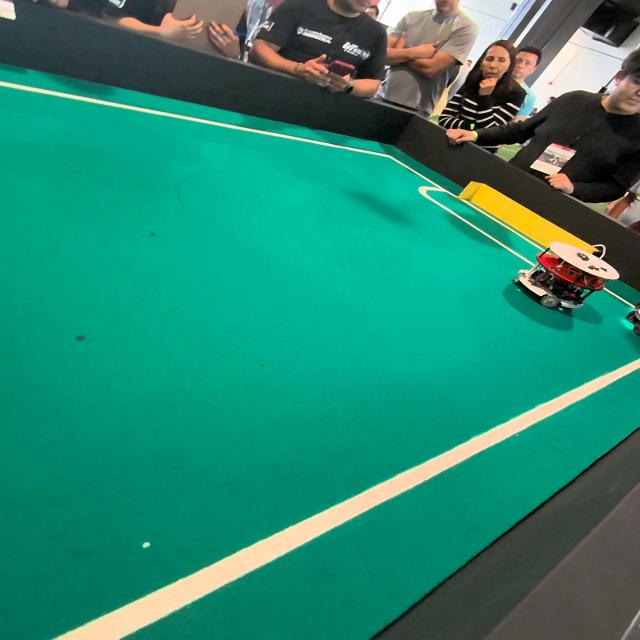Robot: (509, 242, 610, 319), (626, 284, 640, 341)
